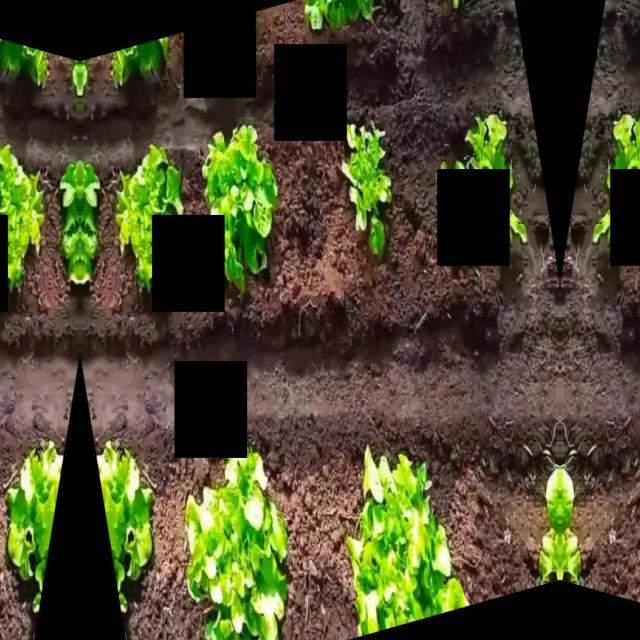healthy: (344, 443, 466, 634), (185, 450, 288, 640), (203, 122, 275, 288), (5, 444, 64, 606), (120, 146, 187, 288), (96, 444, 154, 606), (342, 120, 394, 250), (0, 145, 40, 288), (112, 30, 176, 90), (458, 115, 512, 175), (298, 0, 378, 40), (0, 30, 47, 89), (80, 158, 98, 298), (62, 158, 80, 298), (607, 115, 640, 175)
